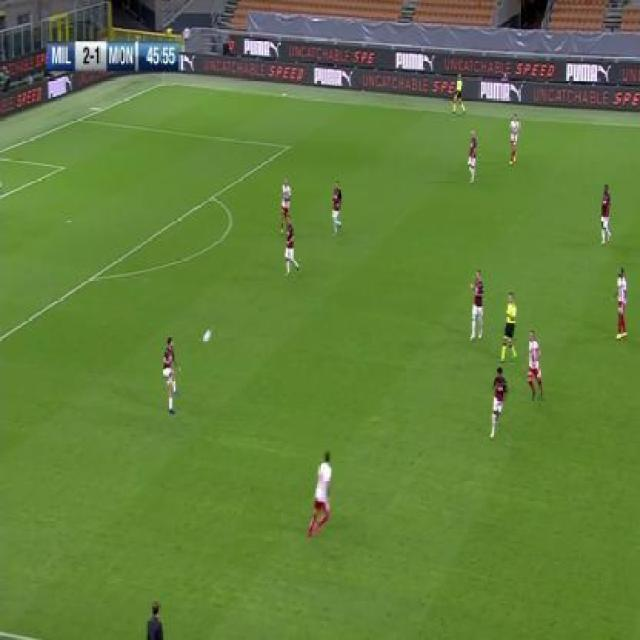ball: (201, 326, 214, 345)
player: (307, 451, 335, 540), (488, 363, 510, 440), (498, 289, 520, 363), (163, 335, 183, 414), (526, 328, 545, 404), (468, 269, 487, 343), (613, 265, 630, 341), (283, 216, 300, 279), (598, 182, 614, 247), (330, 179, 344, 238), (278, 175, 292, 232), (466, 127, 479, 186), (507, 112, 521, 166), (452, 71, 466, 116)
